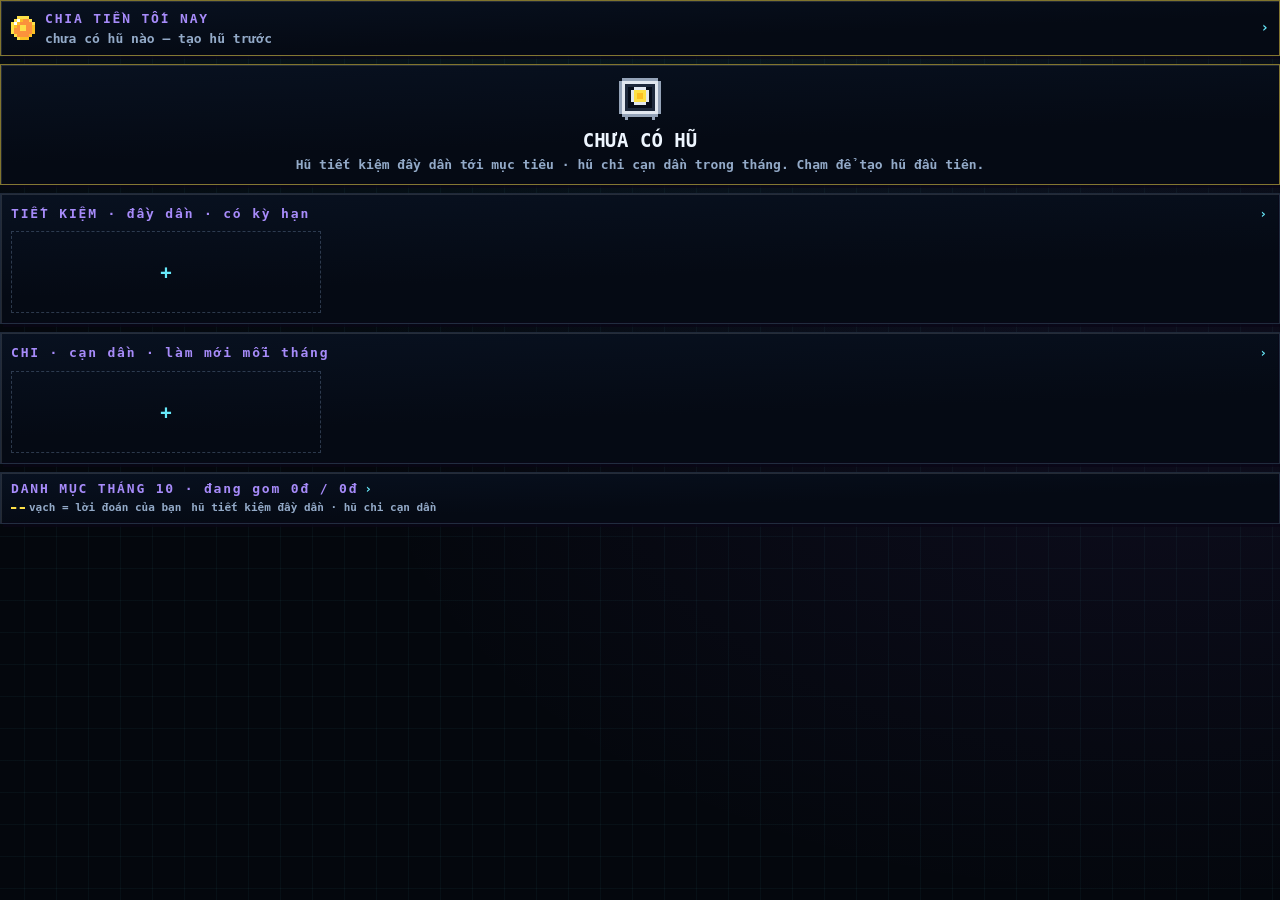
Test: §I — ⭐⭐⭐ Tạo hũ từ MẪU: một chạm › ⭐⭐⭐ chạm một mẫu ⇒ ĐÚNG 1 bản ghi trong ngăn hu, và lối tự tạo hiện cạnh nó
The image size is (1280, 900).
Click the 1st button "+". click: (166, 272)
box: [11,231,321,313]
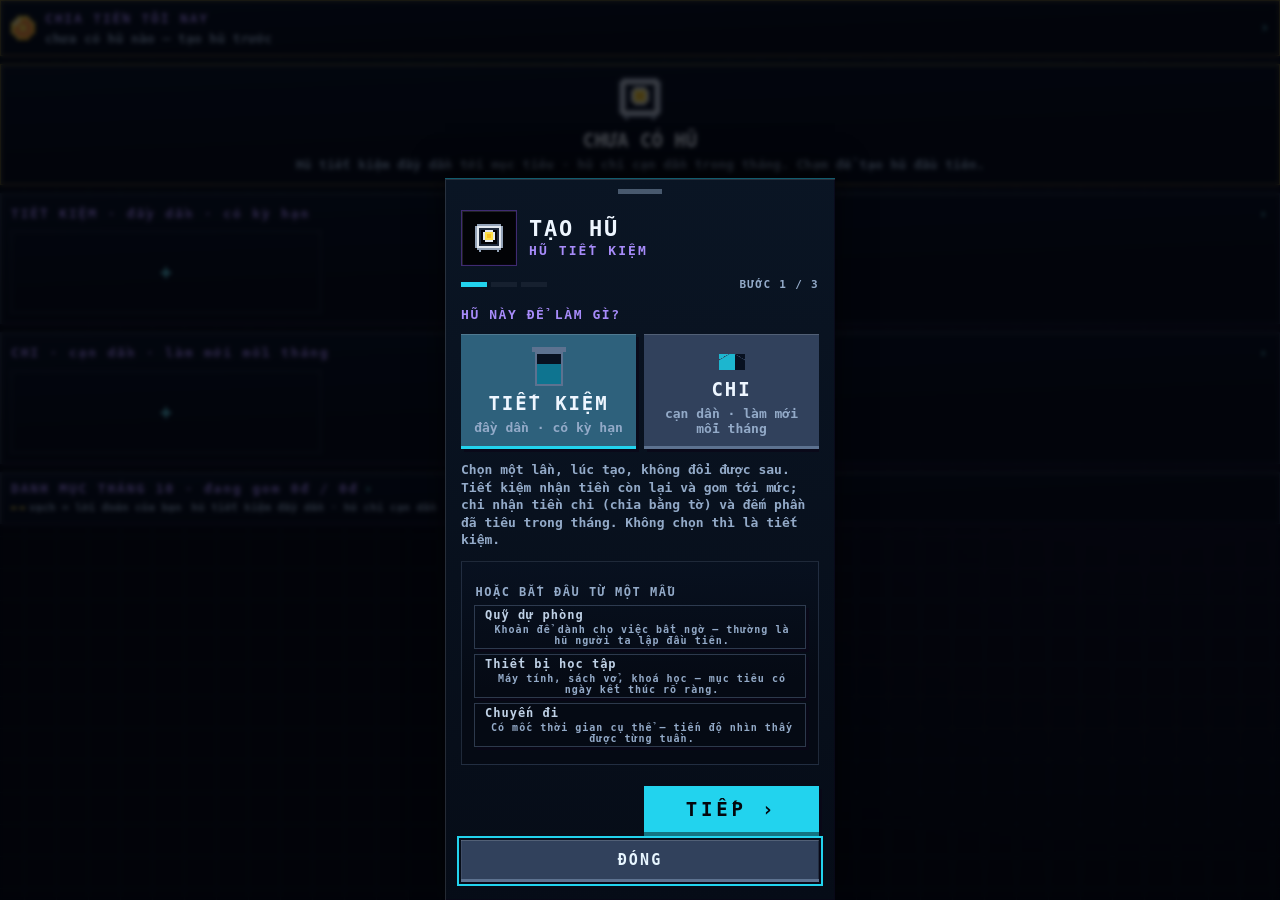
Now the element with test id "tao-buoc" is shown, box [461,278,819,291]
Click the button "Quỹ dự phòng". click: (640, 627)
box: [474,605,806,649]
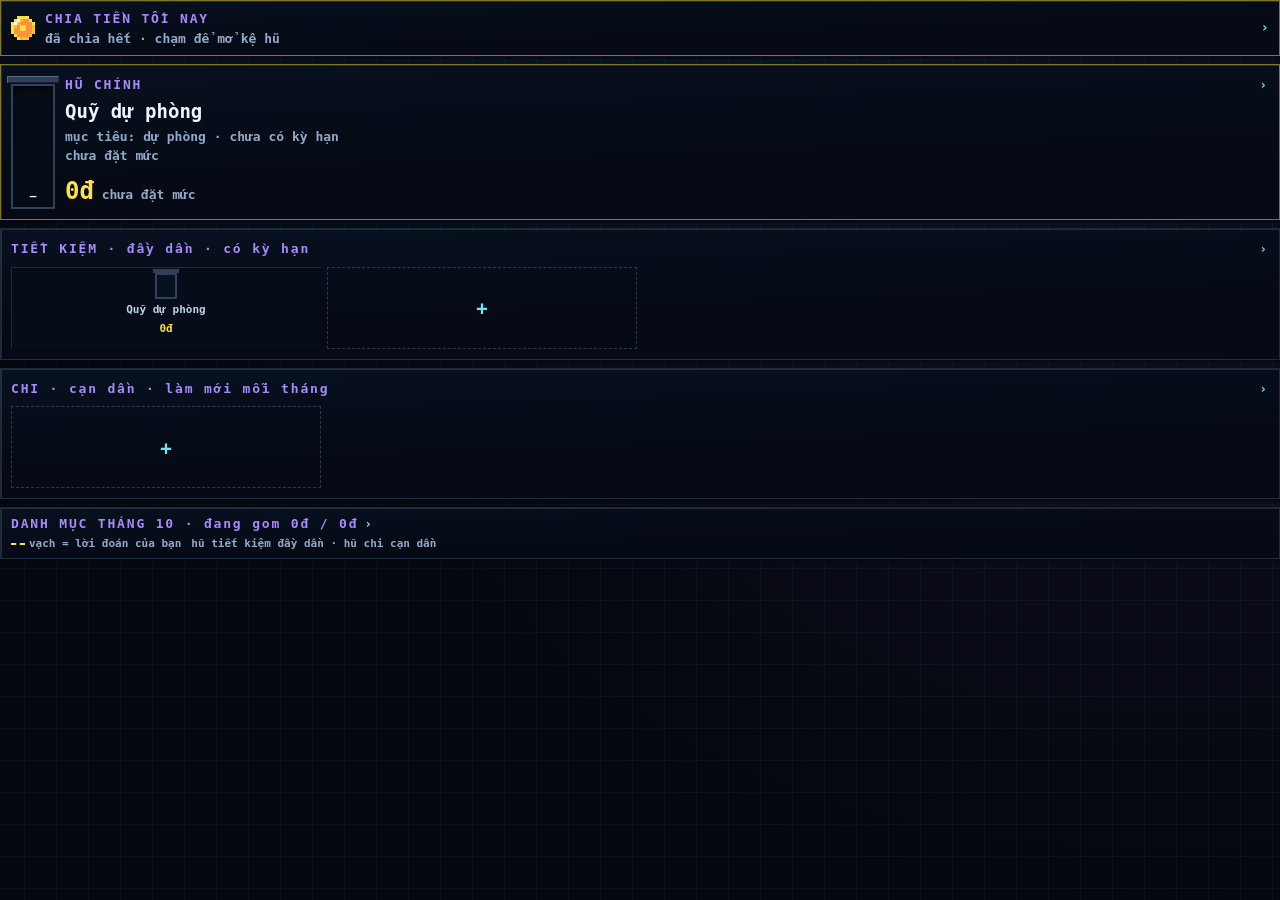
Now the element with test id "tao-buoc" is gone
